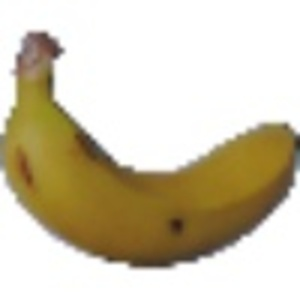banana: (5, 24, 297, 270)
